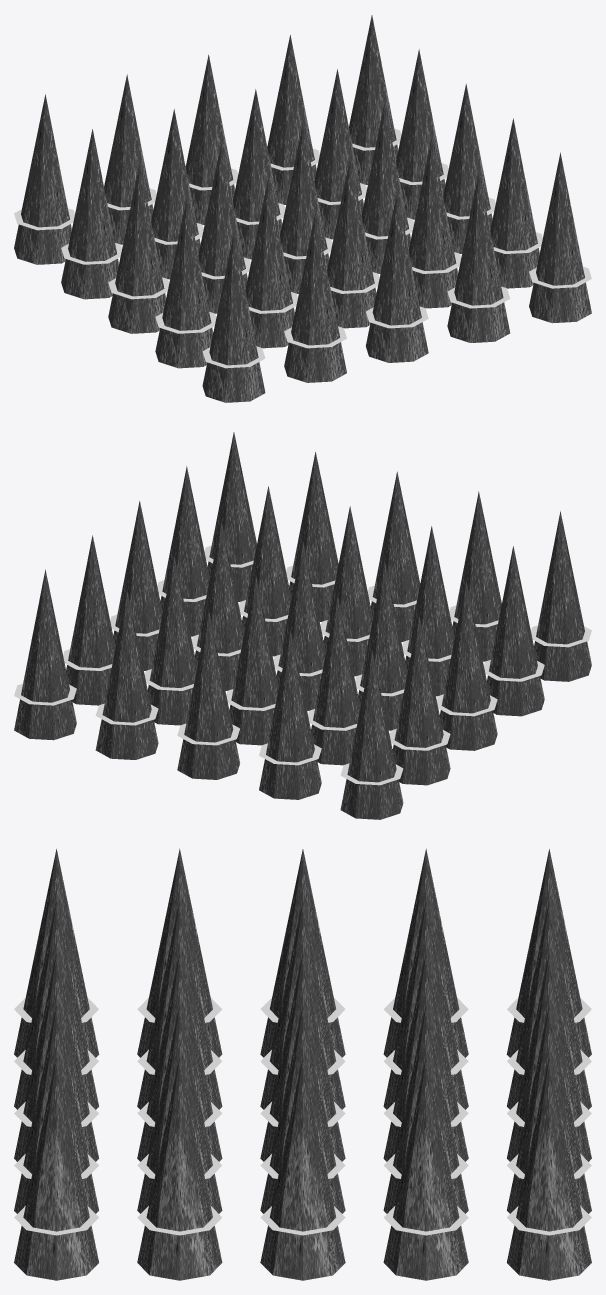
File: TrapTile.fbx
The picture shows the model from 3 angles, top to bottom: view 1: azimuth 30°, elevation 25°; view 2: azimuth 150°, elevation 25°; view 3: azimuth 270°, elevation 25°; orthographic projection. The views are drawn at different scales.
Parts seen in each view (by area): view 1: Spikes, TrapHoles; view 2: Spikes, TrapHoles; view 3: Spikes, TrapHoles.
Boxes of the visible parts, x1,y1,x2,y2 form: Spikes: [14, 15, 591, 402]; TrapHoles: [14, 128, 591, 368]; Spikes: [14, 432, 591, 819]; TrapHoles: [14, 545, 591, 785]; Spikes: [14, 848, 591, 1280]; TrapHoles: [14, 997, 591, 1235].
Size of the model in its own units: 141 by 55.43 by 141.
